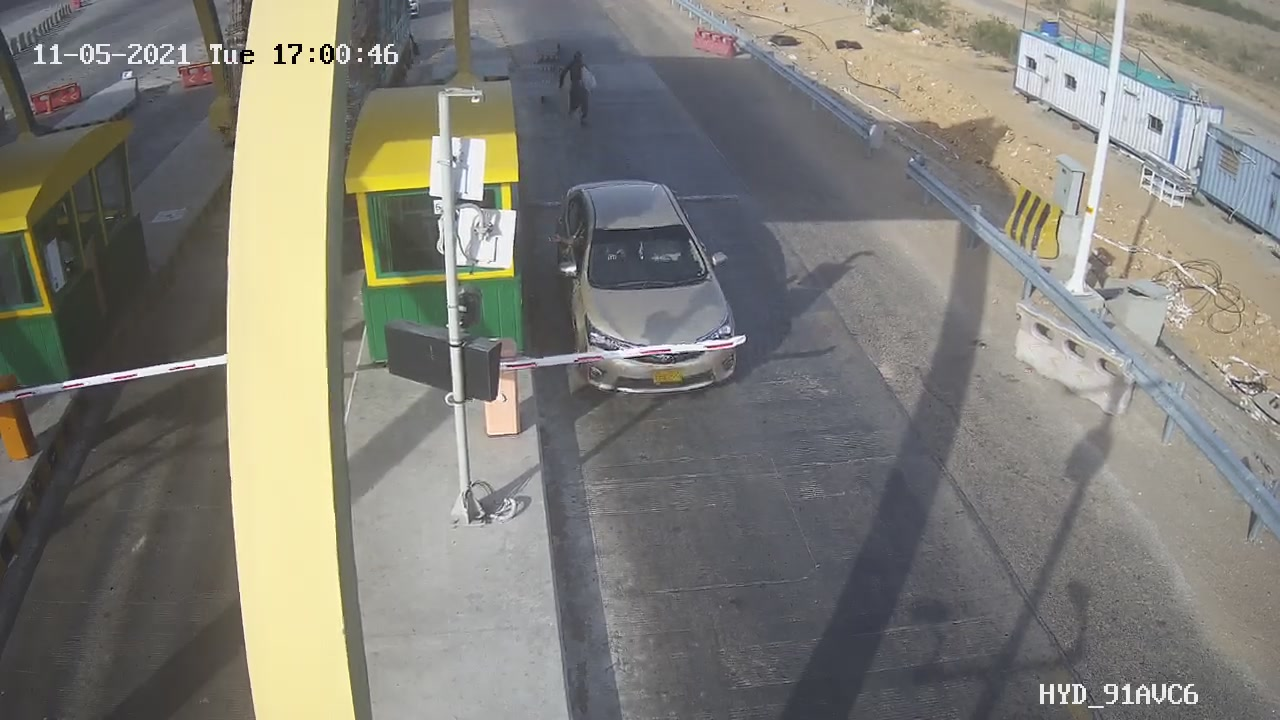F1: (538, 157, 769, 421)
